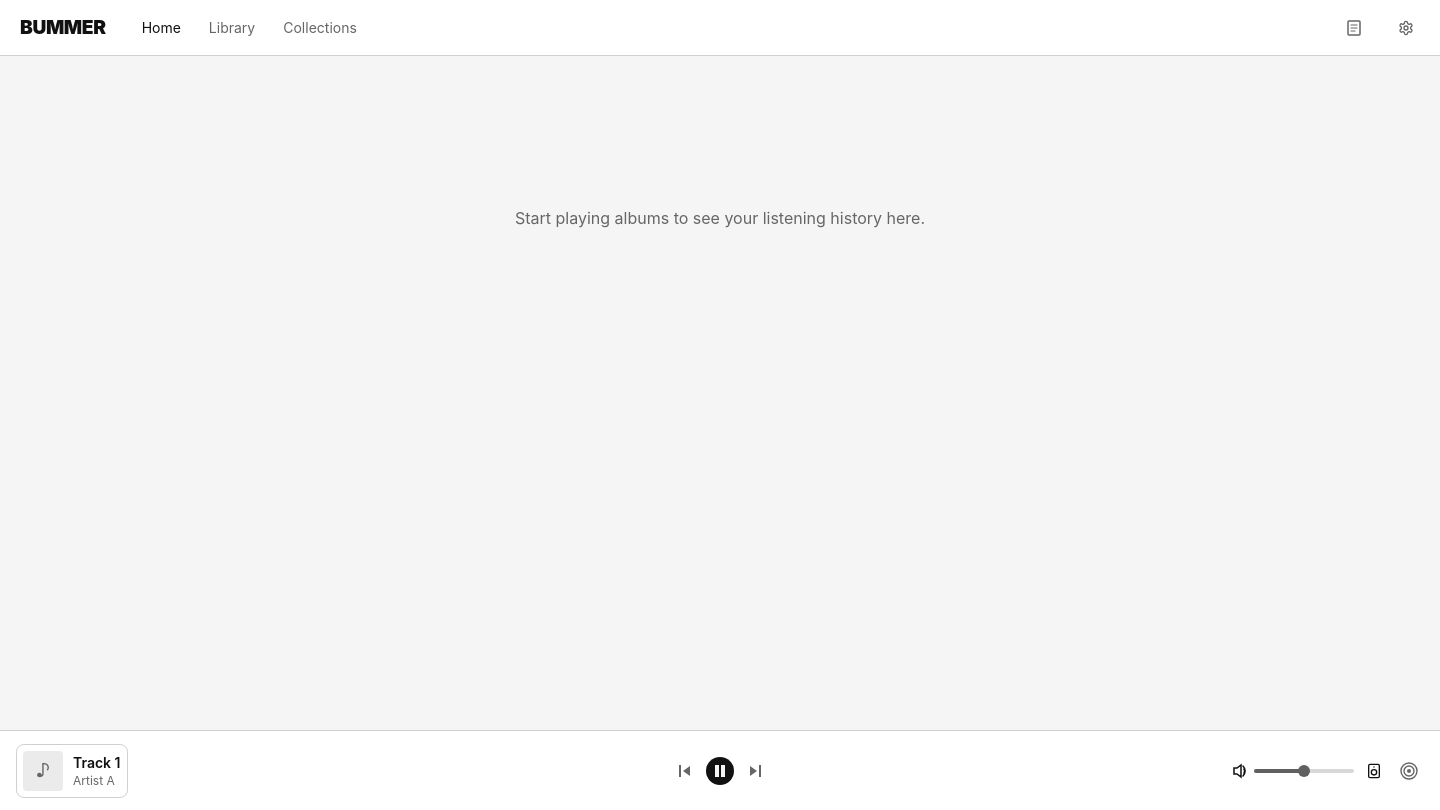
it: App — playback state persistence on reload › syncs playingId from Spotify playback state when app loads with active playback
This screenshot has width=1440, height=810.
Note: Navigate to Library to see album rows
Click the button "Library": (232, 28) [197,12,267,44]
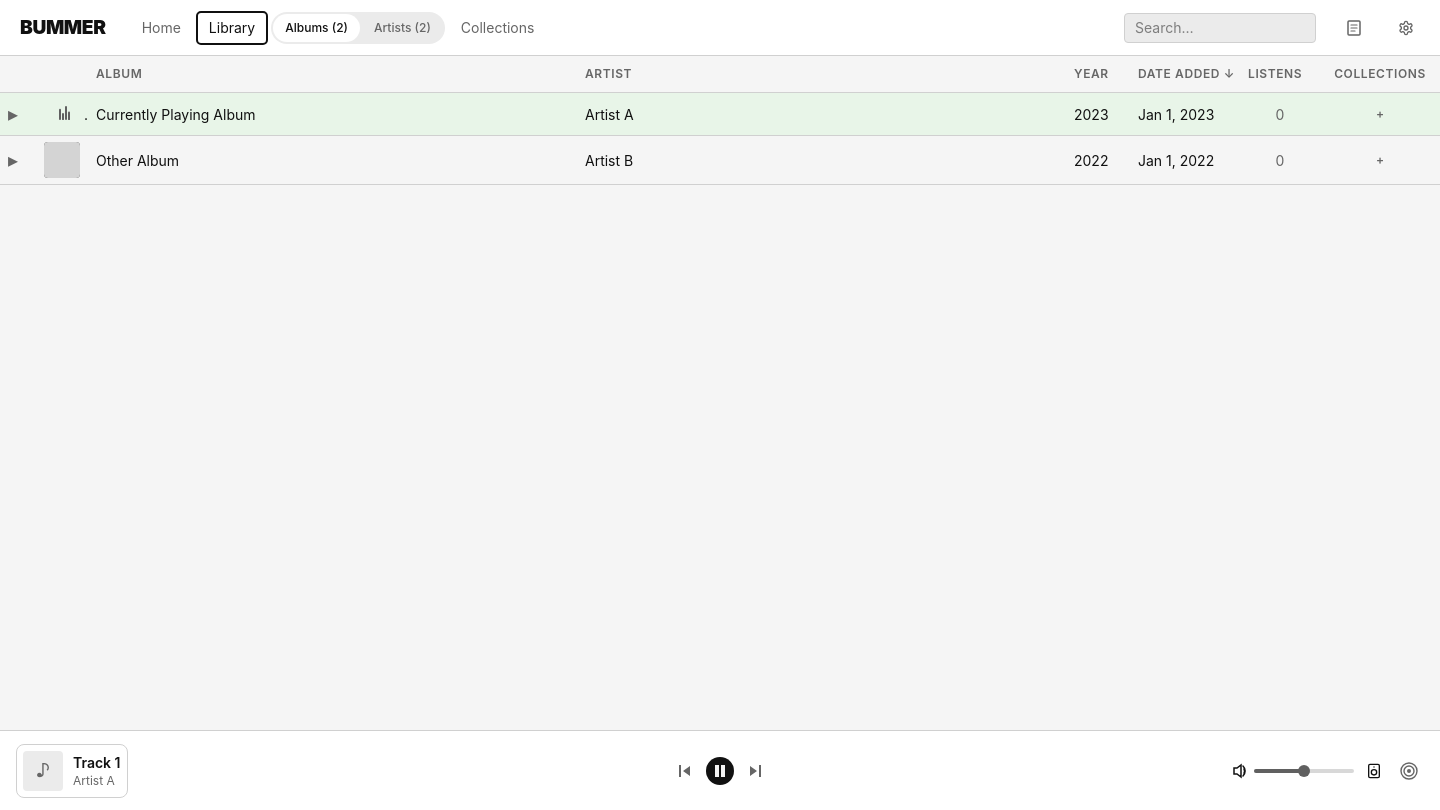
expect the row with id "row-album-album-1" is shown: met, box [0,92,1439,136]
